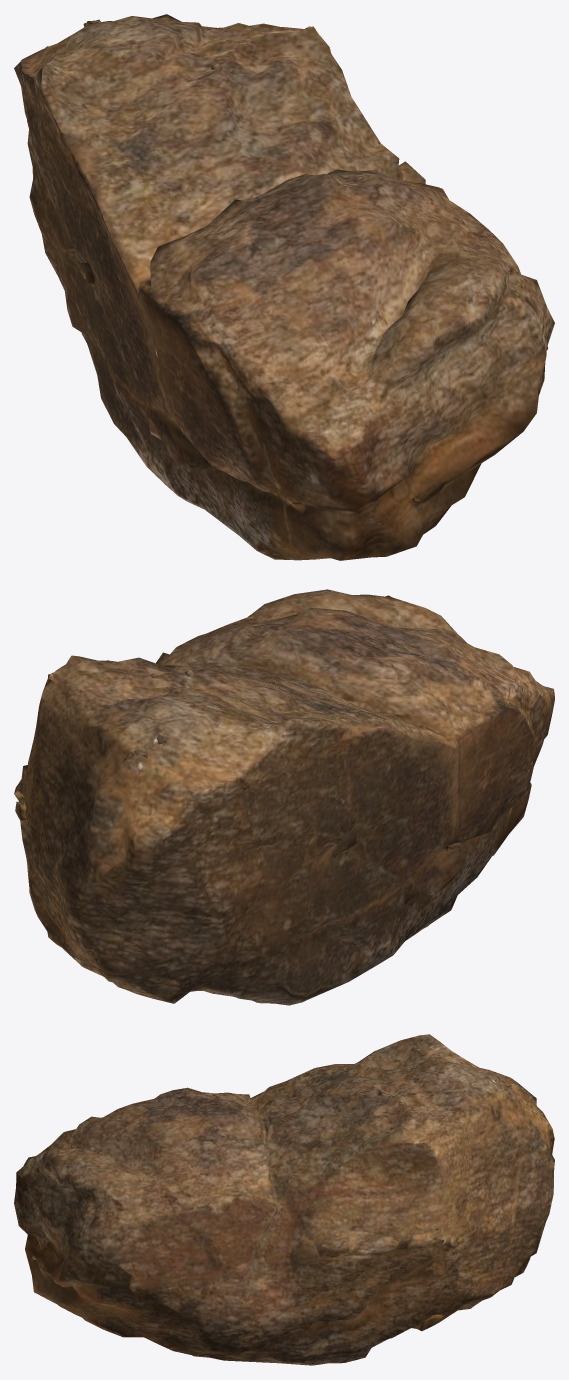
Rendered from namaqualand_boulder_06.glb.
The picture shows the model from 3 angles, top to bottom: view 1: azimuth 30°, elevation 25°; view 2: azimuth 150°, elevation 25°; view 3: azimuth 270°, elevation 25°; orthographic projection. The views are drawn at different scales.
Visible parts, largest first — view 1: namaqualand_boulder_06; view 2: namaqualand_boulder_06; view 3: namaqualand_boulder_06.
Part boxes in pixels (left/top/right/bottom): namaqualand_boulder_06: left=14, top=14, right=554, bottom=560; namaqualand_boulder_06: left=14, top=589, right=554, bottom=1005; namaqualand_boulder_06: left=14, top=1034, right=554, bottom=1365.
Bounding box in the file's own units: 0.6725 × 0.6502 × 1.21.
Materials: 1 (1 with a texture image).
